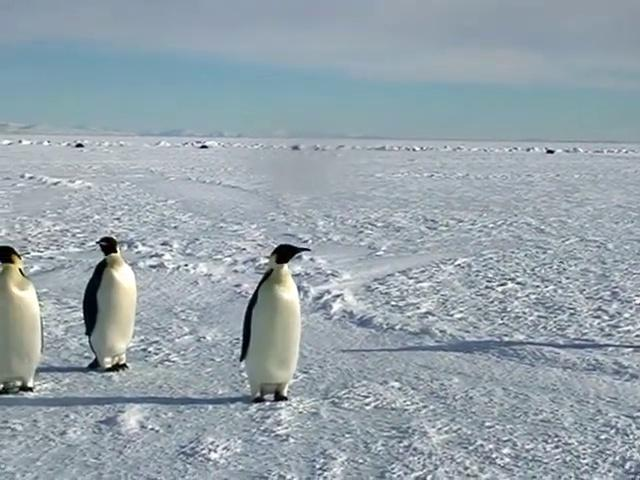animal: (241, 245, 309, 403)
